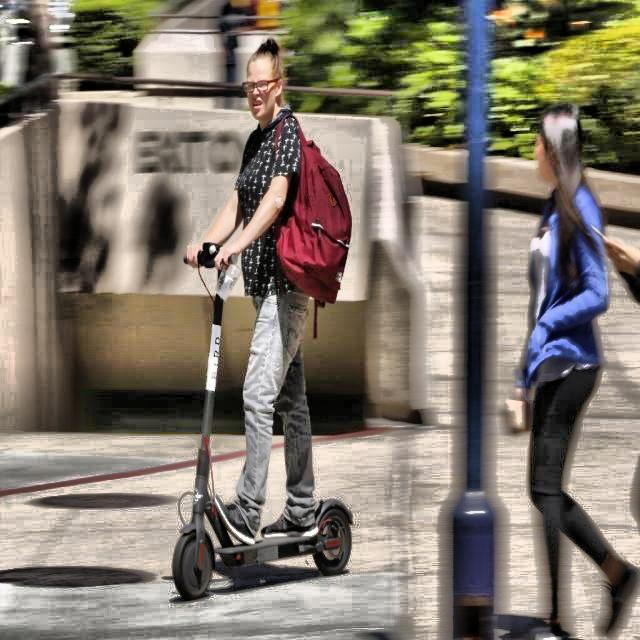bare_head: (228, 32, 297, 122)
human: (204, 21, 349, 544)
kickboard: (157, 504, 384, 597)
